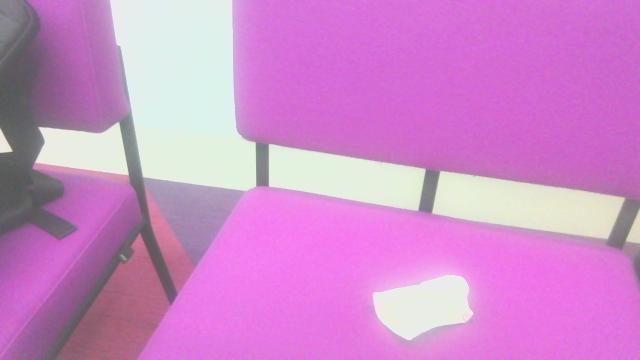bottle: (365, 272, 481, 343)
